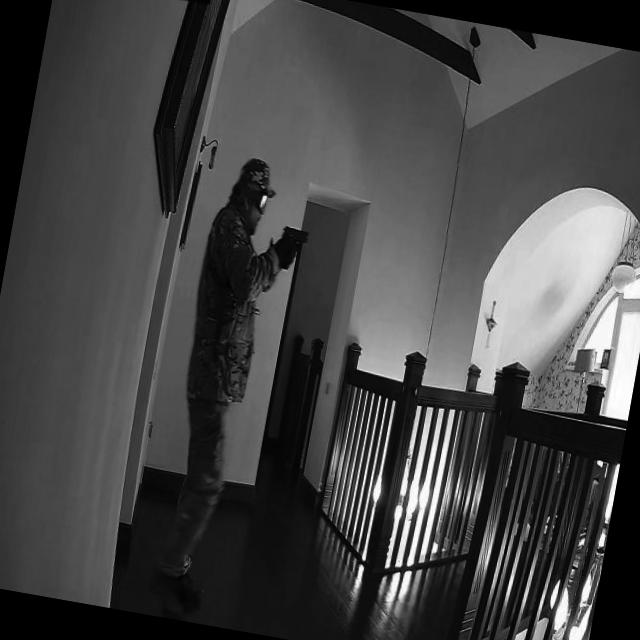gun: (279, 222, 310, 258)
person with a gun: (142, 152, 285, 612)
